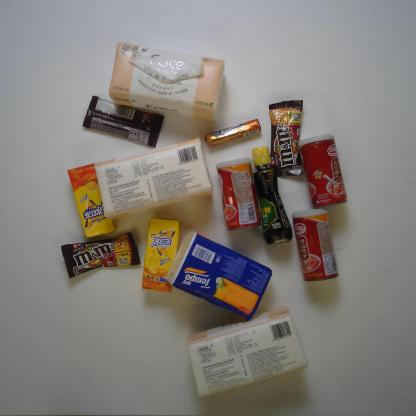Candy: (202, 117, 263, 150)
Canned Food: (292, 132, 349, 210), (288, 204, 342, 284), (214, 155, 264, 233)
Chocolate: (79, 94, 167, 150), (59, 229, 143, 282), (265, 96, 307, 180)
Drink: (64, 159, 120, 241), (138, 214, 184, 294)
Seasoner: (249, 144, 294, 247)
Tissue: (183, 302, 312, 402), (106, 38, 228, 128), (92, 135, 216, 222), (164, 228, 274, 324)
